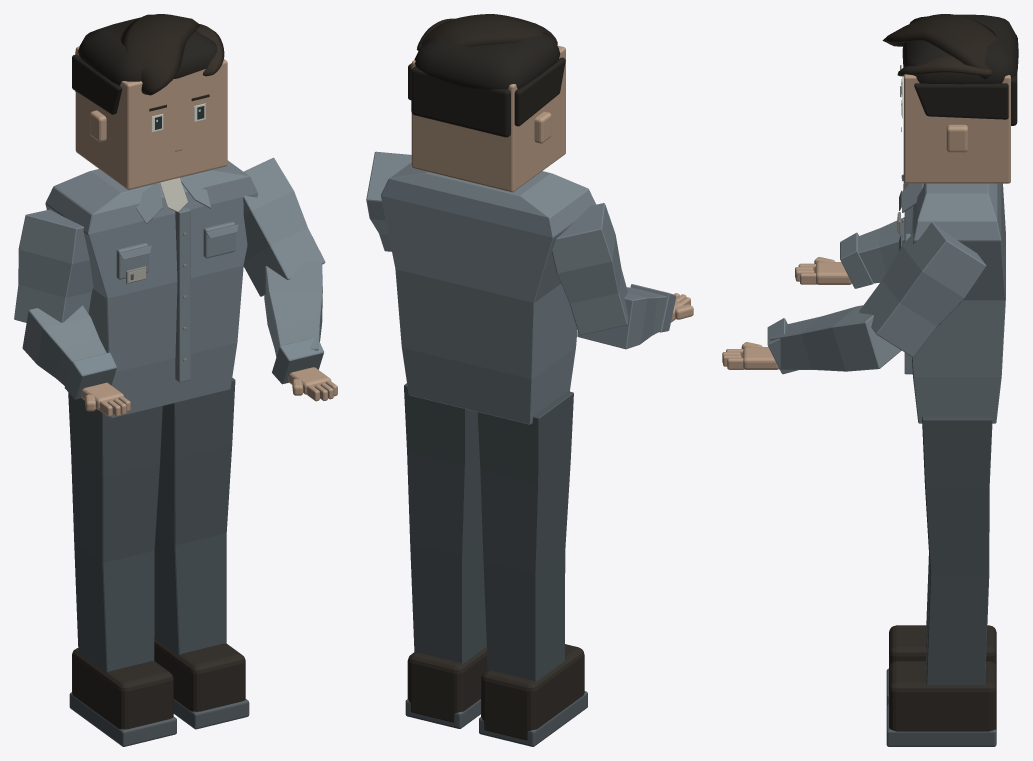
The model's file is officer.glb.
3 renders of one model, left to right at view 1: azimuth 30°, elevation 25°; view 2: azimuth 150°, elevation 25°; view 3: azimuth 270°, elevation 25°, orthographic.
Parts seen in each view (by area): view 1: tailored_jacket, trouser_l, trouser_r, head, upper_sleeve_l, upper_sleeve_r, boot_l, boot_r, forearm_sleeve_r, hair_broad_sweep, forearm_sleeve_l, hair_continuous_cap (+13 smaller); view 2: tailored_jacket, trouser_l, trouser_r, head, upper_sleeve_l, hair_continuous_cap, boot_l, hair_back_mass, boot_r, hair_broad_sweep, forearm_sleeve_l, upper_sleeve_r (+4 smaller); view 3: trouser_r, tailored_jacket, upper_sleeve_r, head, boot_r, forearm_sleeve_r, hair_continuous_cap, hair_broad_sweep, hair_side_mass_1, sole_r, forearm_sleeve_l, boot_l (+6 smaller).
Boxes of the visible parts, x1,y1,x2,y2 form: tailored_jacket: (45, 160, 257, 418); trouser_l: (68, 392, 162, 672); trouser_r: (154, 378, 235, 654); head: (75, 46, 227, 189); upper_sleeve_l: (14, 209, 93, 322); upper_sleeve_r: (243, 157, 325, 296); boot_l: (72, 648, 173, 729); boot_r: (154, 637, 245, 711); forearm_sleeve_r: (264, 261, 322, 356); hair_broad_sweep: (120, 14, 200, 95); forearm_sleeve_l: (22, 305, 106, 385); hair_continuous_cap: (78, 14, 217, 85); tailored_jacket: (381, 162, 596, 424); trouser_l: (477, 391, 573, 681); trouser_r: (404, 383, 486, 663); head: (411, 45, 565, 192); upper_sleeve_l: (552, 203, 628, 335); hair_continuous_cap: (414, 32, 560, 90); boot_l: (481, 644, 584, 740); hair_back_mass: (411, 66, 510, 137); boot_r: (407, 647, 487, 722); hair_broad_sweep: (421, 14, 557, 46); forearm_sleeve_l: (577, 287, 666, 349); upper_sleeve_r: (366, 151, 411, 251); trouser_r: (922, 416, 992, 684); tailored_jacket: (911, 183, 1005, 423); upper_sleeve_r: (859, 222, 986, 357); head: (903, 74, 1010, 183); boot_r: (889, 661, 996, 731); forearm_sleeve_r: (770, 305, 901, 371); hair_continuous_cap: (902, 14, 1018, 84); hair_broad_sweep: (882, 14, 997, 79); hair_side_mass_1: (914, 83, 1008, 119); sole_r: (886, 704, 996, 746); forearm_sleeve_l: (858, 217, 904, 283); boot_l: (889, 625, 996, 667).
Bounding box in the file's own units: 0.7679 × 1.84 × 0.7145.
